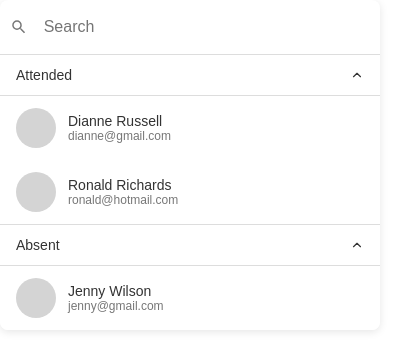
Scenario: ContactList Component › filters contacts correctly based on search input
# Type "Dianne" in search input
In the field with placeholder "Search": (203, 27) [36,10,370,44], type "Dianne"
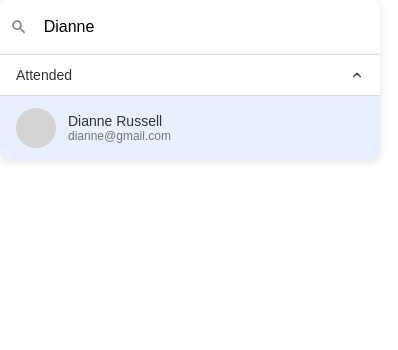
Check: the text "Dianne Russell" is shown, box [68,113,171,129]
Check: the text "Ronald Richards" is gone
Check: the text "Jenny Wilson" is gone
